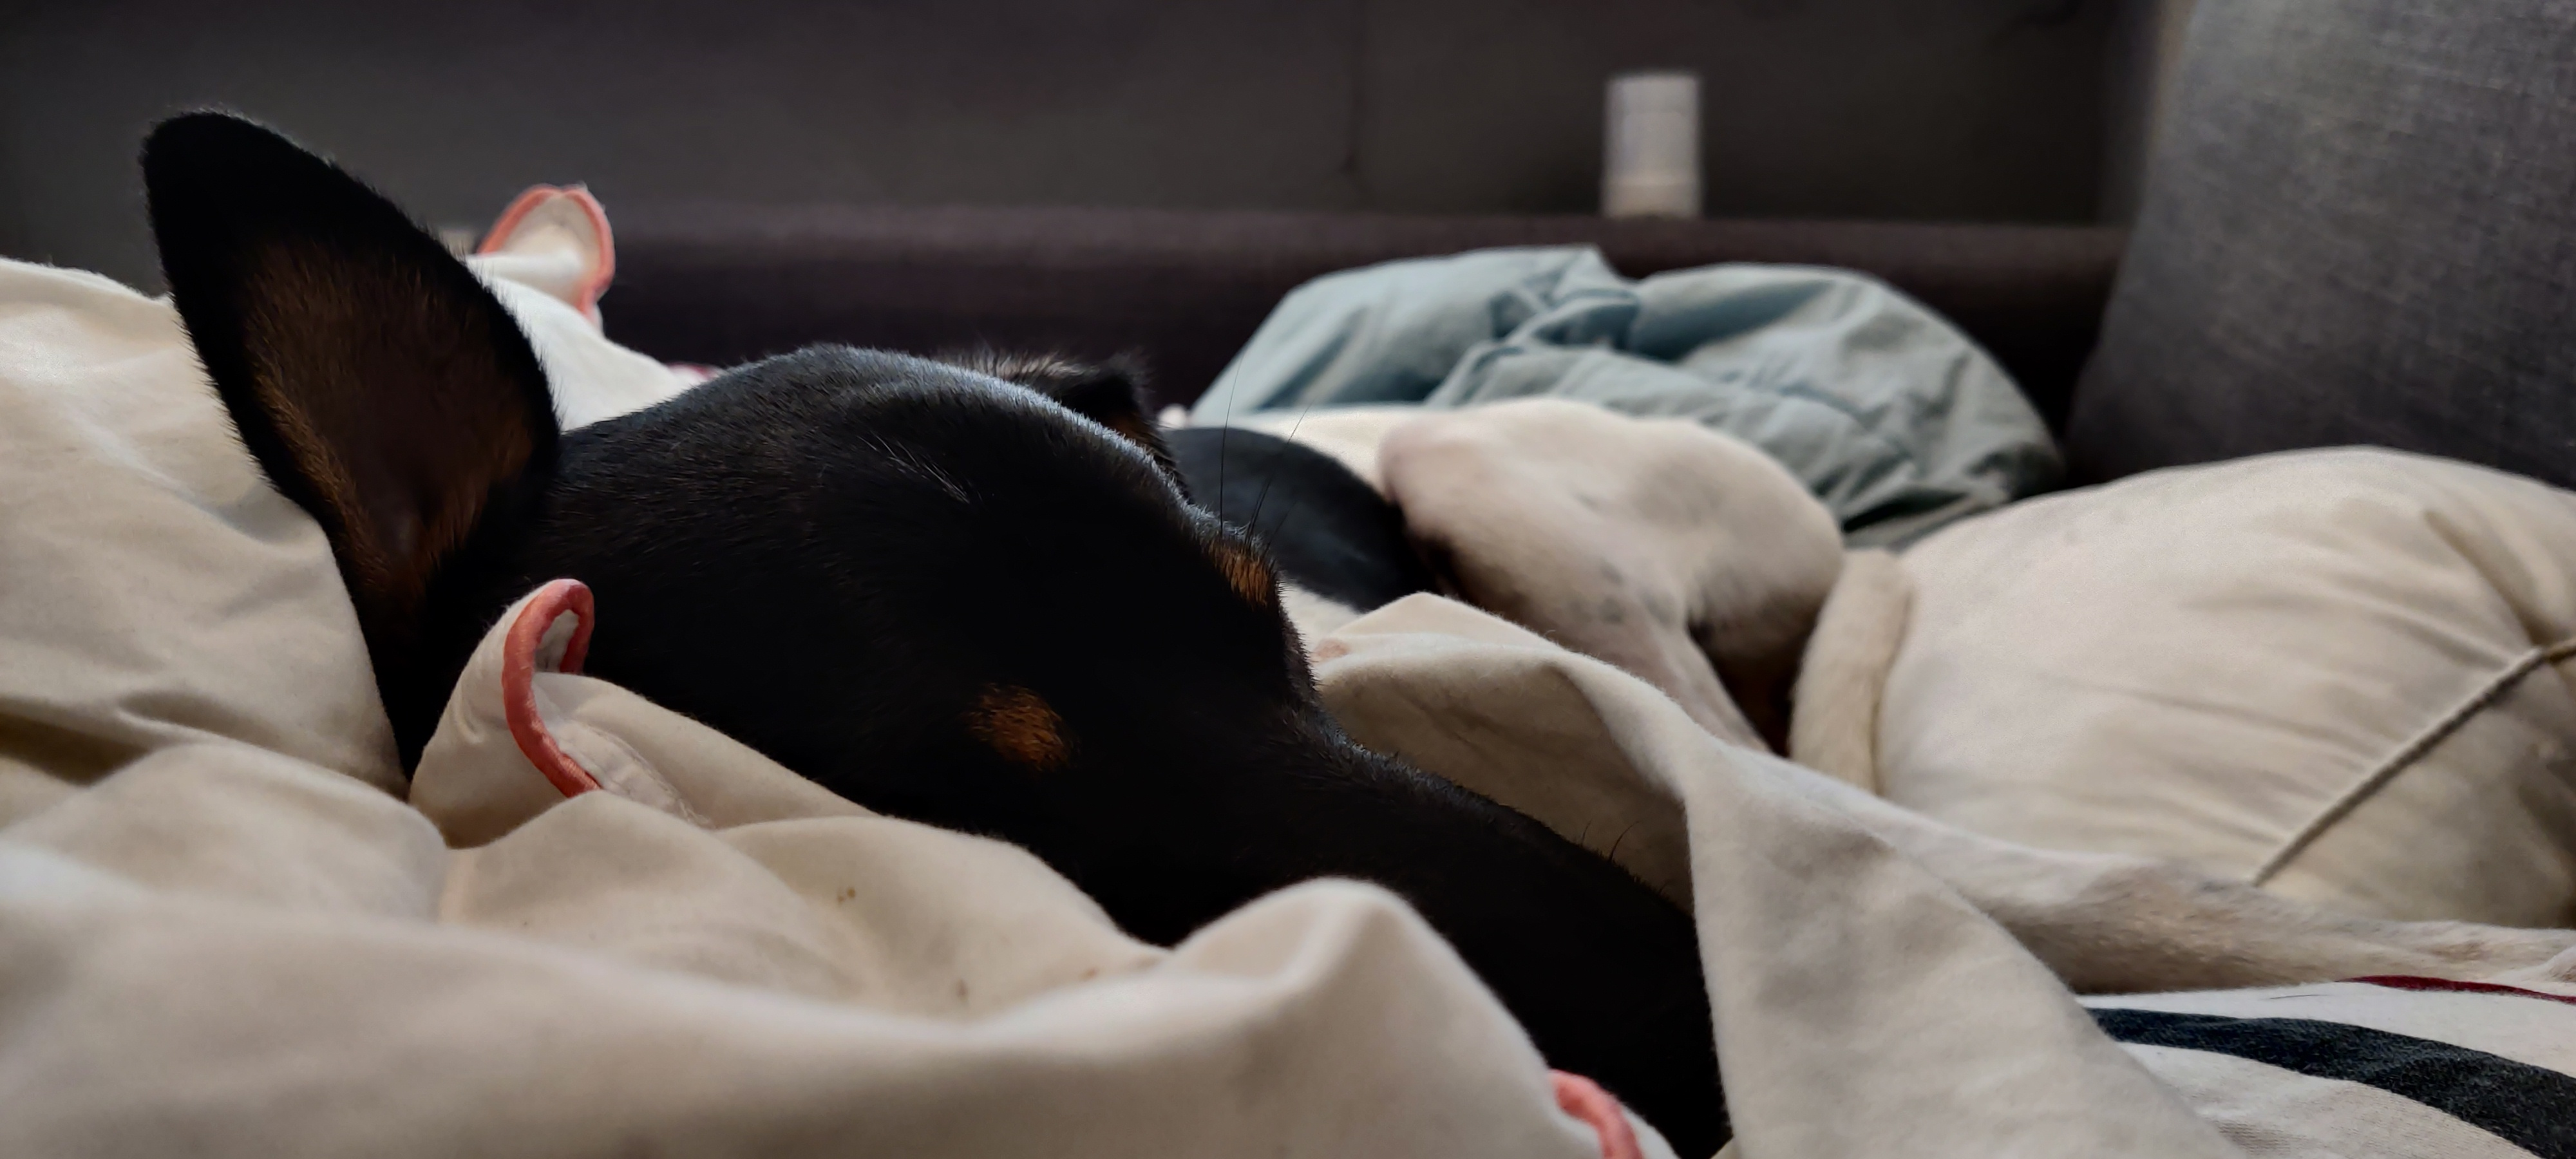Dog: (105, 66, 1916, 1159)
